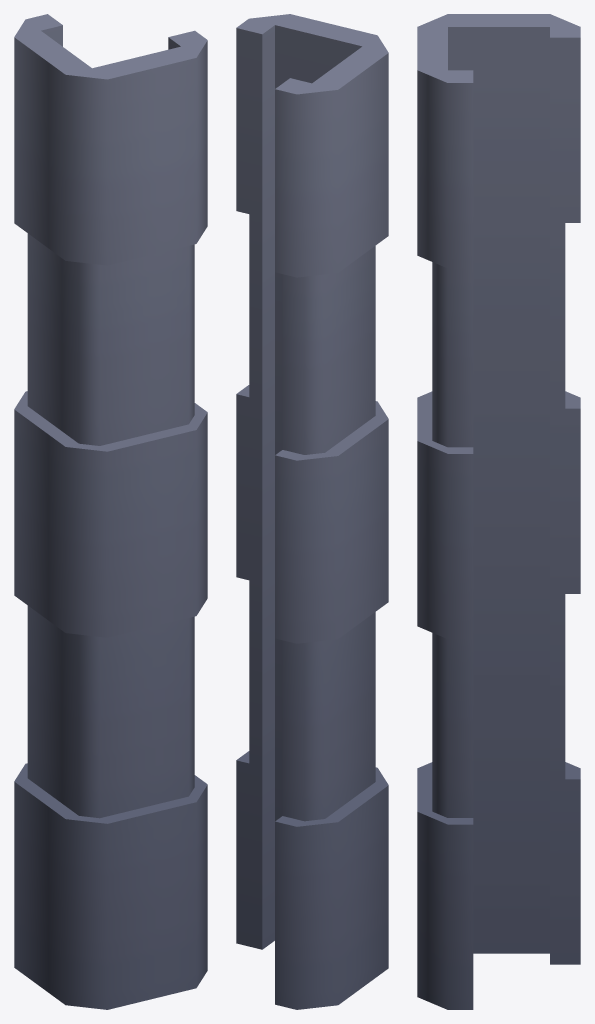
The model's file is wall-corner-detail.glb.
The picture shows the model from 3 angles, left to right: view 1: azimuth 30°, elevation 25°; view 2: azimuth 150°, elevation 25°; view 3: azimuth 270°, elevation 25°; orthographic projection.
Parts seen in each view (by area): view 1: wall-corner-detail; view 2: wall-corner-detail; view 3: wall-corner-detail.
Part boxes in pixels (x1,y1,x2,y2): wall-corner-detail: (14, 14, 207, 1009); wall-corner-detail: (236, 14, 388, 1009); wall-corner-detail: (417, 14, 580, 1009).
Size of the model in its own units: 0.16 by 1 by 0.16.
Materials: 1 (1 with a texture image).
